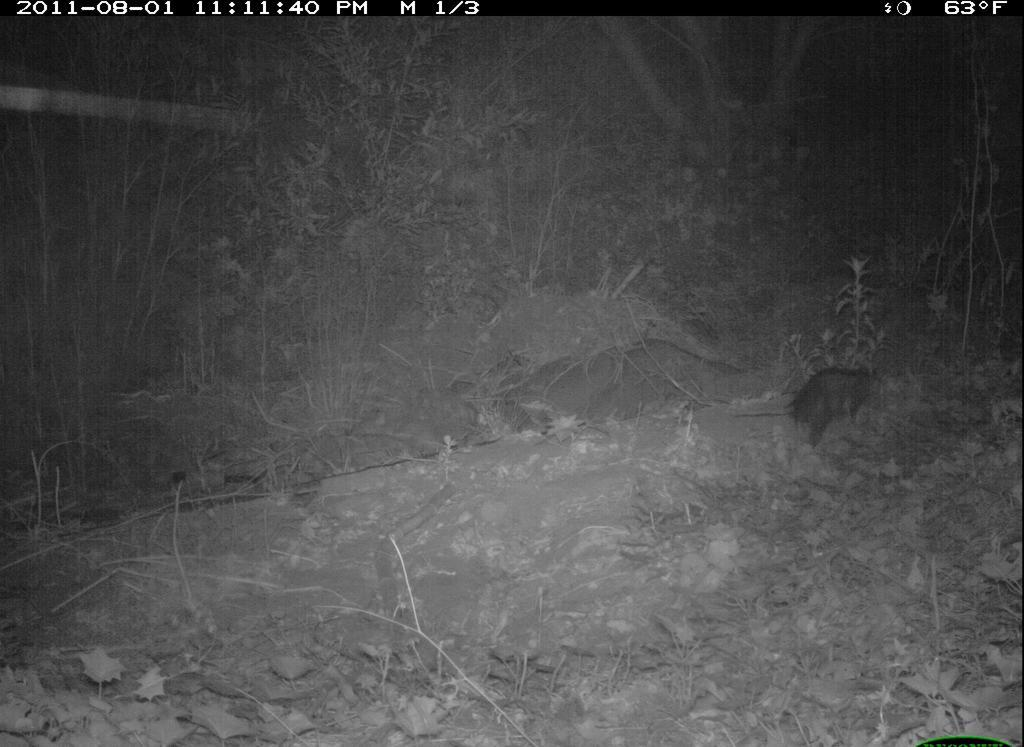opossum: (748, 351, 911, 450)
